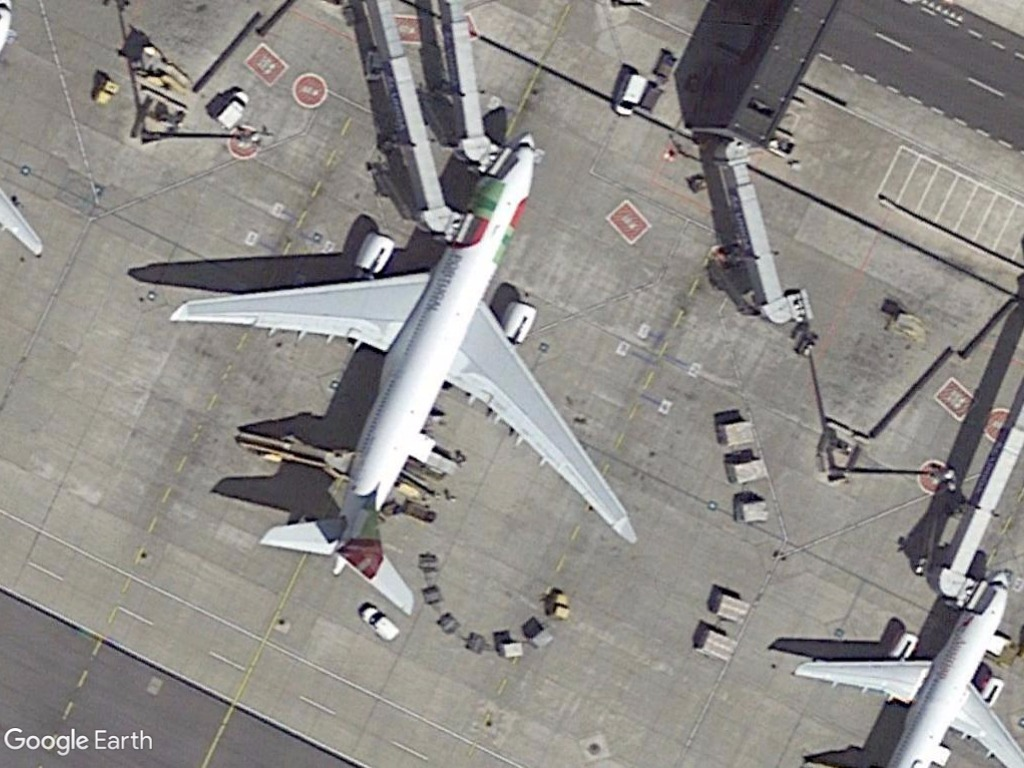airliner: (167, 125, 642, 613)
stairtruck: (234, 424, 352, 486)
van: (358, 602, 404, 645), (611, 68, 650, 118), (214, 87, 254, 133)
